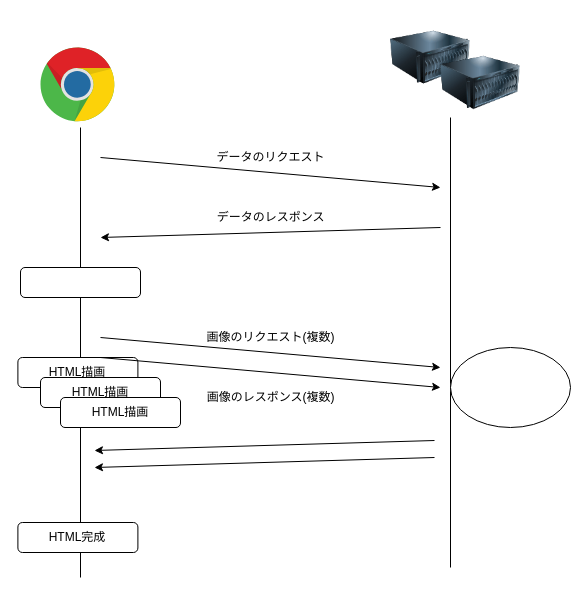
The diagram is 588 pixels wide and 596 high, and some of its shapes have lost their labels. Here are the shapes that lost their labels. From the top down, the box of each, then its label:
(20, 266, 140, 298): DOMの生成
(450, 346, 570, 428): 複数の画像を非同期
